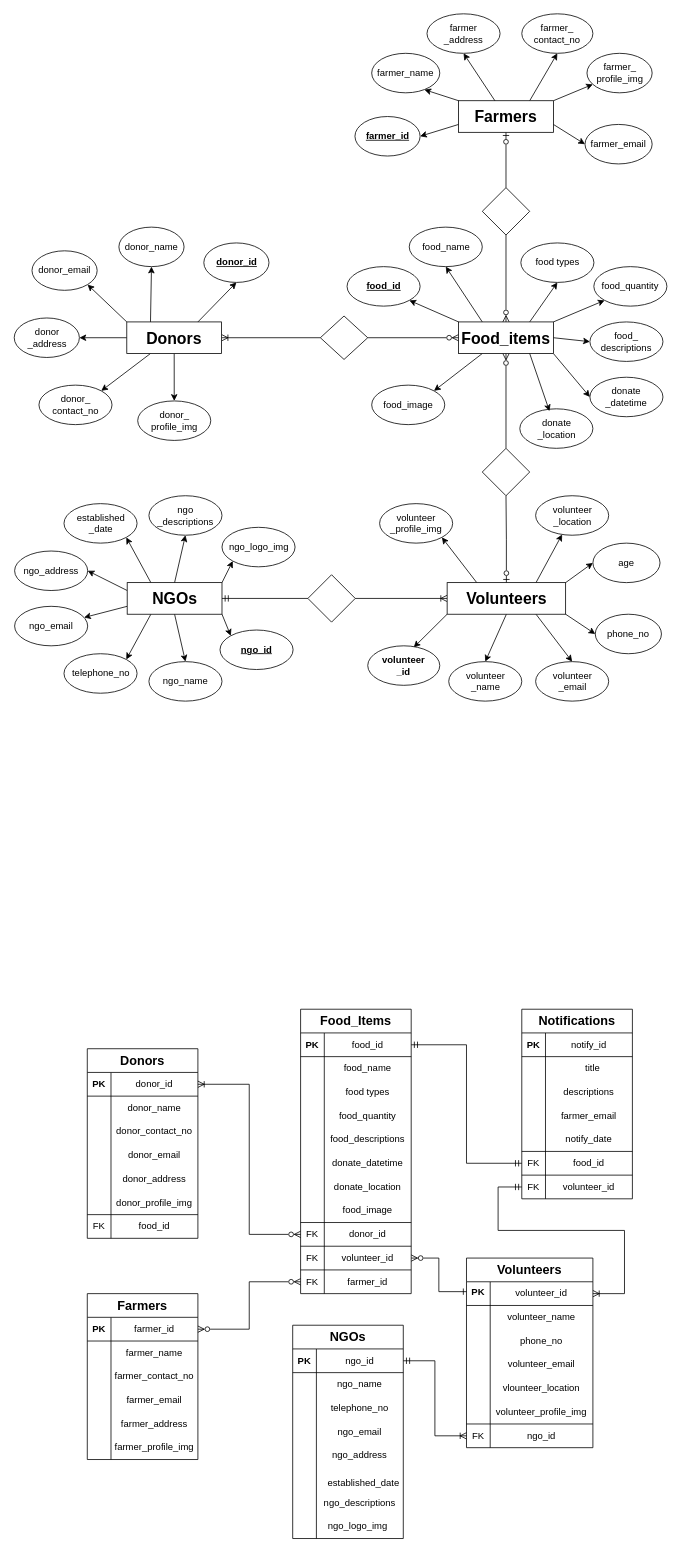
The diagram is 681 pixels wide and 1553 high, and some of its shapes have lost their labels. Here are the shapes that lost their labels. From the top down, the centre of each, then its label:
the point at 506,211: receive
the point at 344,337: donate
the point at 506,472: deliver
the point at 331,598: have
